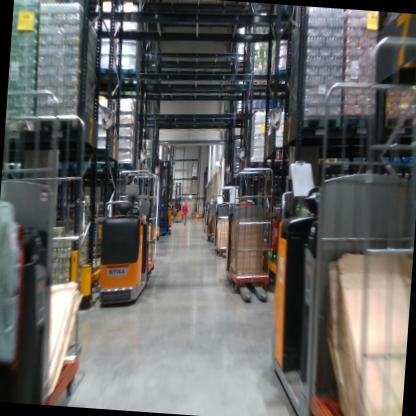forklift: (152, 153, 179, 240), (168, 174, 190, 226)
pallet: (34, 110, 84, 141), (267, 5, 302, 43), (338, 105, 387, 131), (90, 151, 139, 174), (380, 107, 416, 134), (295, 112, 342, 132), (113, 61, 141, 93), (6, 110, 37, 137), (245, 75, 273, 101), (95, 65, 123, 91), (270, 66, 296, 92), (313, 149, 340, 171), (64, 154, 93, 174), (390, 148, 414, 171), (248, 157, 272, 172), (271, 156, 296, 170), (2, 156, 19, 176), (250, 105, 266, 116), (191, 217, 197, 221)
pallet_truck: (260, 170, 416, 416), (0, 163, 97, 406), (85, 142, 174, 316), (212, 151, 284, 313), (211, 193, 234, 258), (203, 190, 223, 245)
